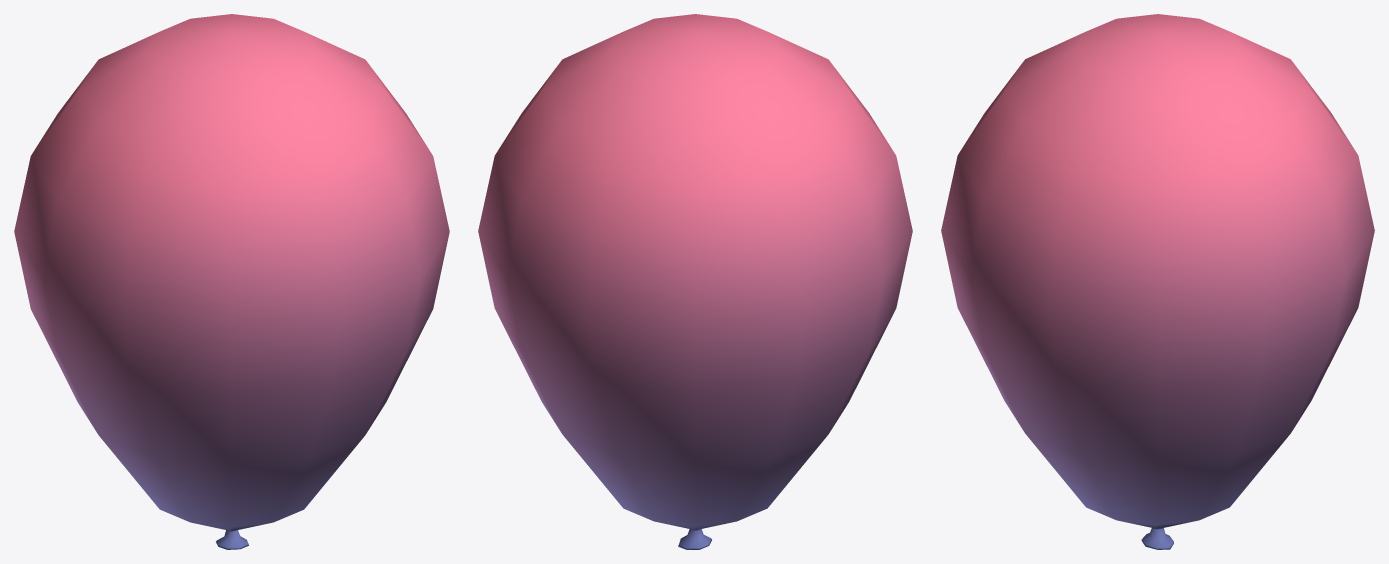
The model's file is SM_balloon_pink_blue.fbx.
3 views of the same model, side by side, from view 1: azimuth 30°, elevation 25°; view 2: azimuth 150°, elevation 25°; view 3: azimuth 270°, elevation 25° (orthographic).
Parts seen in each view (by area): view 1: Cube.024; view 2: Cube.024; view 3: Cube.024.
Part boxes in pixels (x1,y1,x2,y2): Cube.024: [14, 14, 449, 549]; Cube.024: [478, 14, 912, 549]; Cube.024: [941, 14, 1374, 549].
Size of the model in its own units: 121 by 157 by 121.
